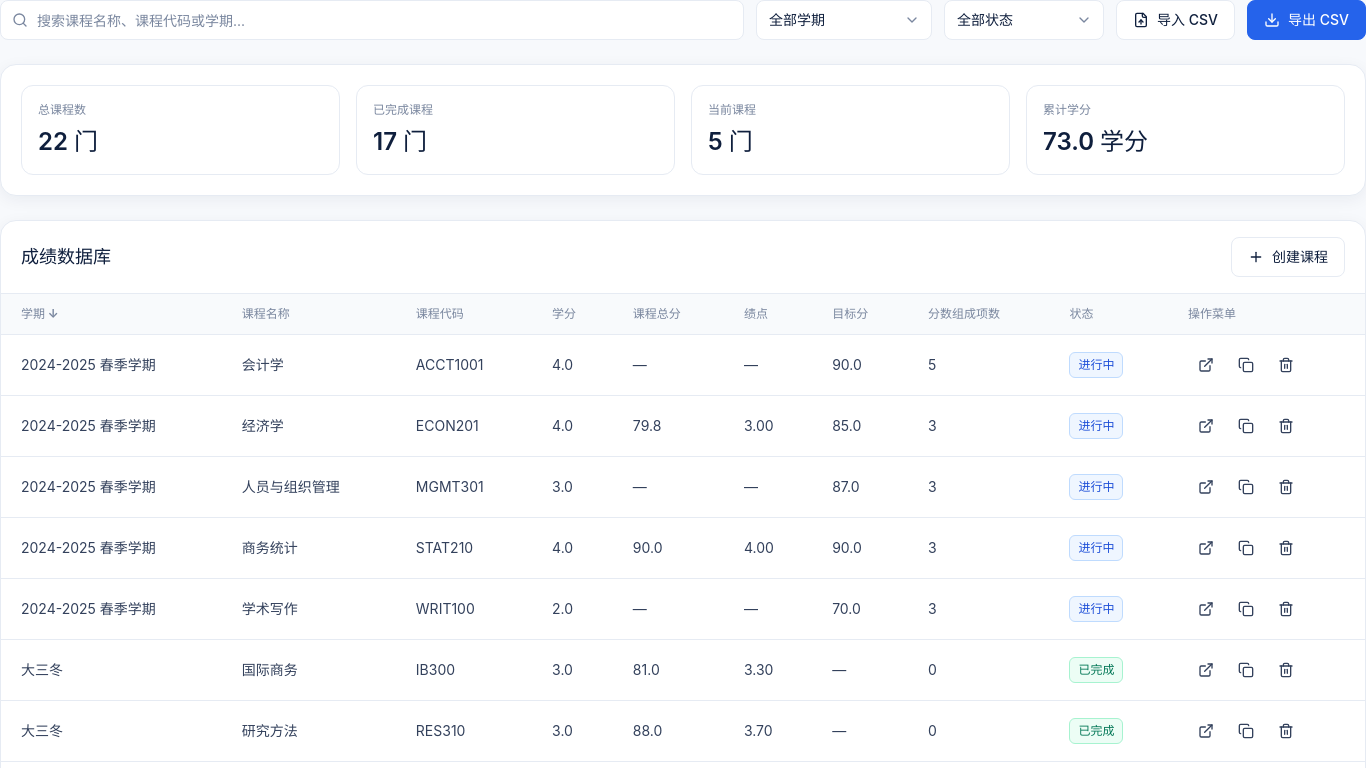
it: GradePilot UI › filters the database table by search text
The width and height of the screenshot is (1366, 768).
Check: the text "经济学" is shown, box [222, 396, 396, 456]
In the field labelled "搜索课程": (372, 20) [0, 0, 744, 40], type "会计"
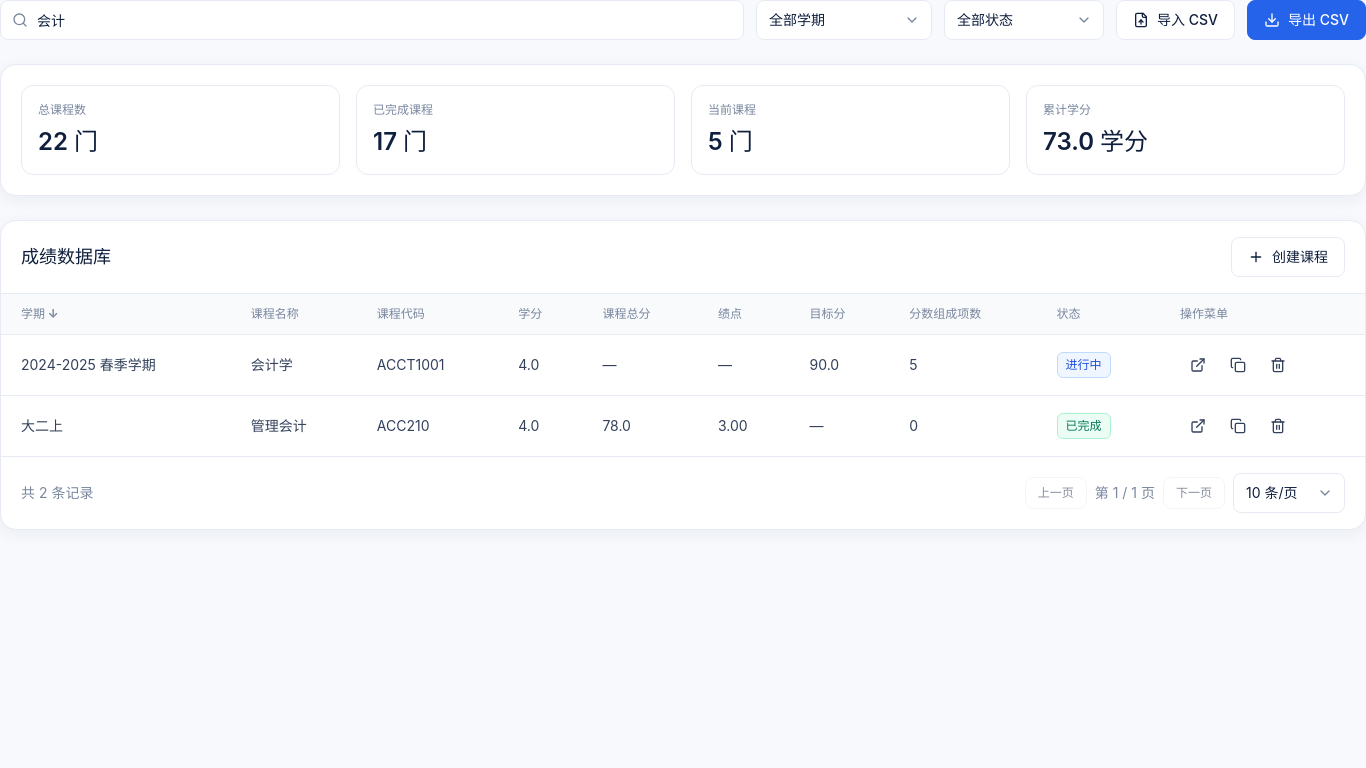
Check: the text "会计学" is shown, box [231, 334, 357, 396]
Check: the text "经济学" is gone
